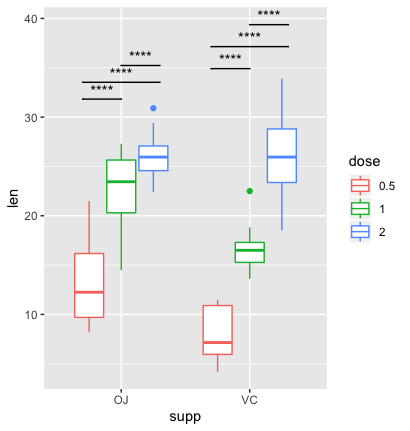OK_NoIssue: (1, 3, 410, 427)
